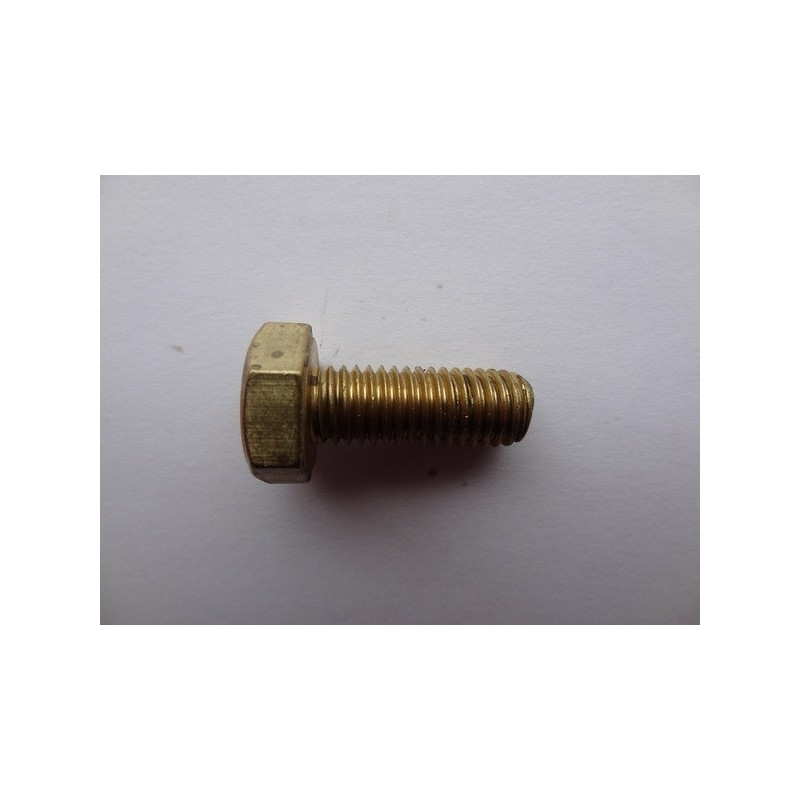screw: (241, 322, 536, 482)
